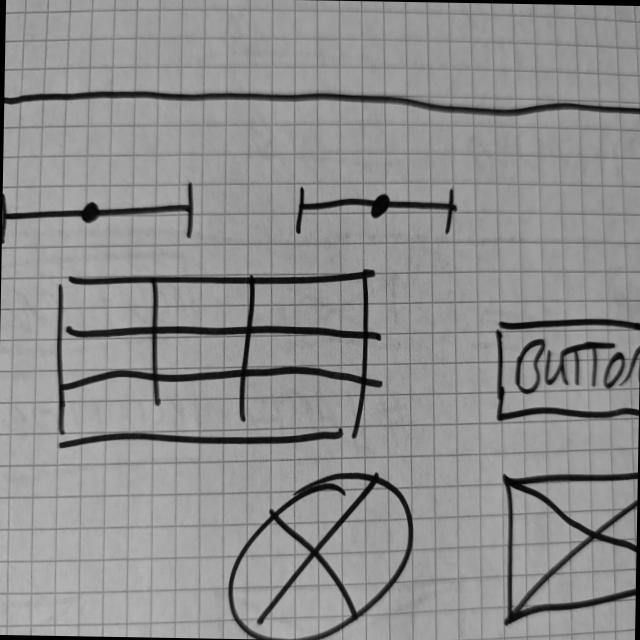button: (492, 314, 640, 430)
image: (225, 469, 418, 640), (500, 465, 639, 631)
slider: (3, 177, 201, 250), (294, 181, 460, 241)
table: (53, 261, 374, 454)
